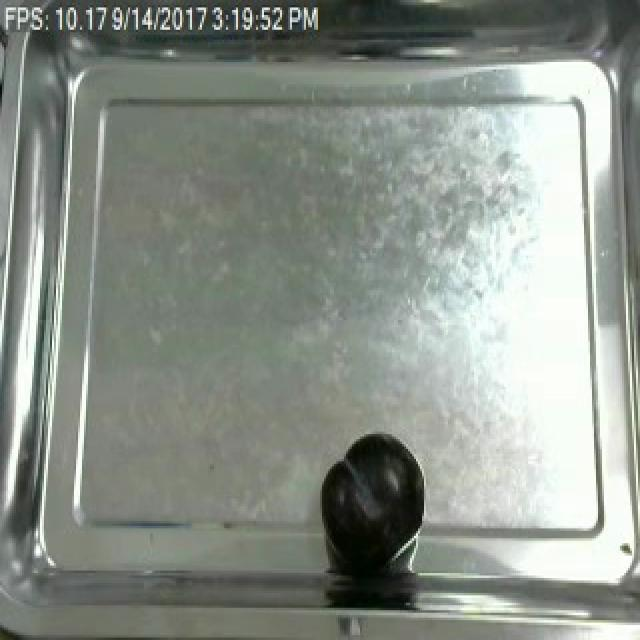Fruit: (320, 427, 428, 563)
